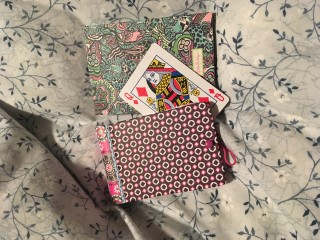QueenOfDiamonds: (119, 43, 231, 119)
